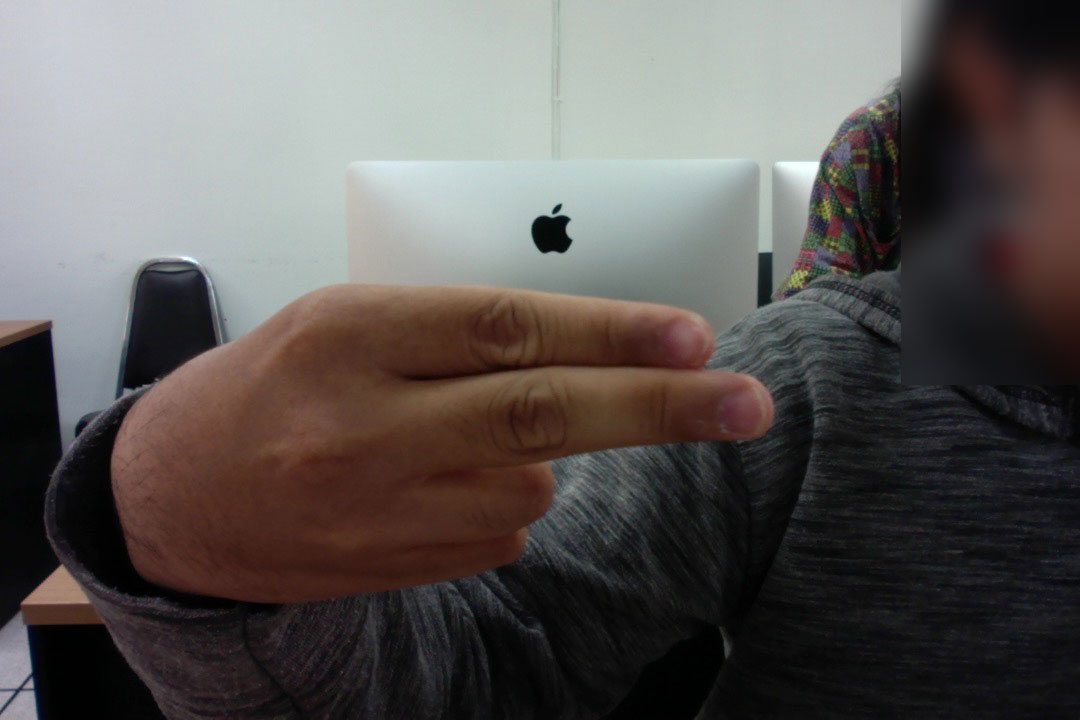hor: (81, 271, 792, 614)
